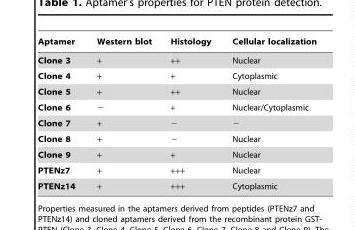table: (37, 36, 316, 190)
table column: (221, 36, 316, 190), (85, 36, 160, 190), (160, 36, 221, 190), (37, 36, 85, 190)
table column header: (37, 36, 316, 49)
table row: (37, 49, 316, 67), (37, 82, 316, 98), (37, 98, 316, 114), (37, 114, 316, 130), (37, 145, 316, 161), (37, 161, 316, 177), (37, 67, 316, 82), (37, 130, 316, 145), (37, 36, 316, 49), (37, 177, 316, 190)
